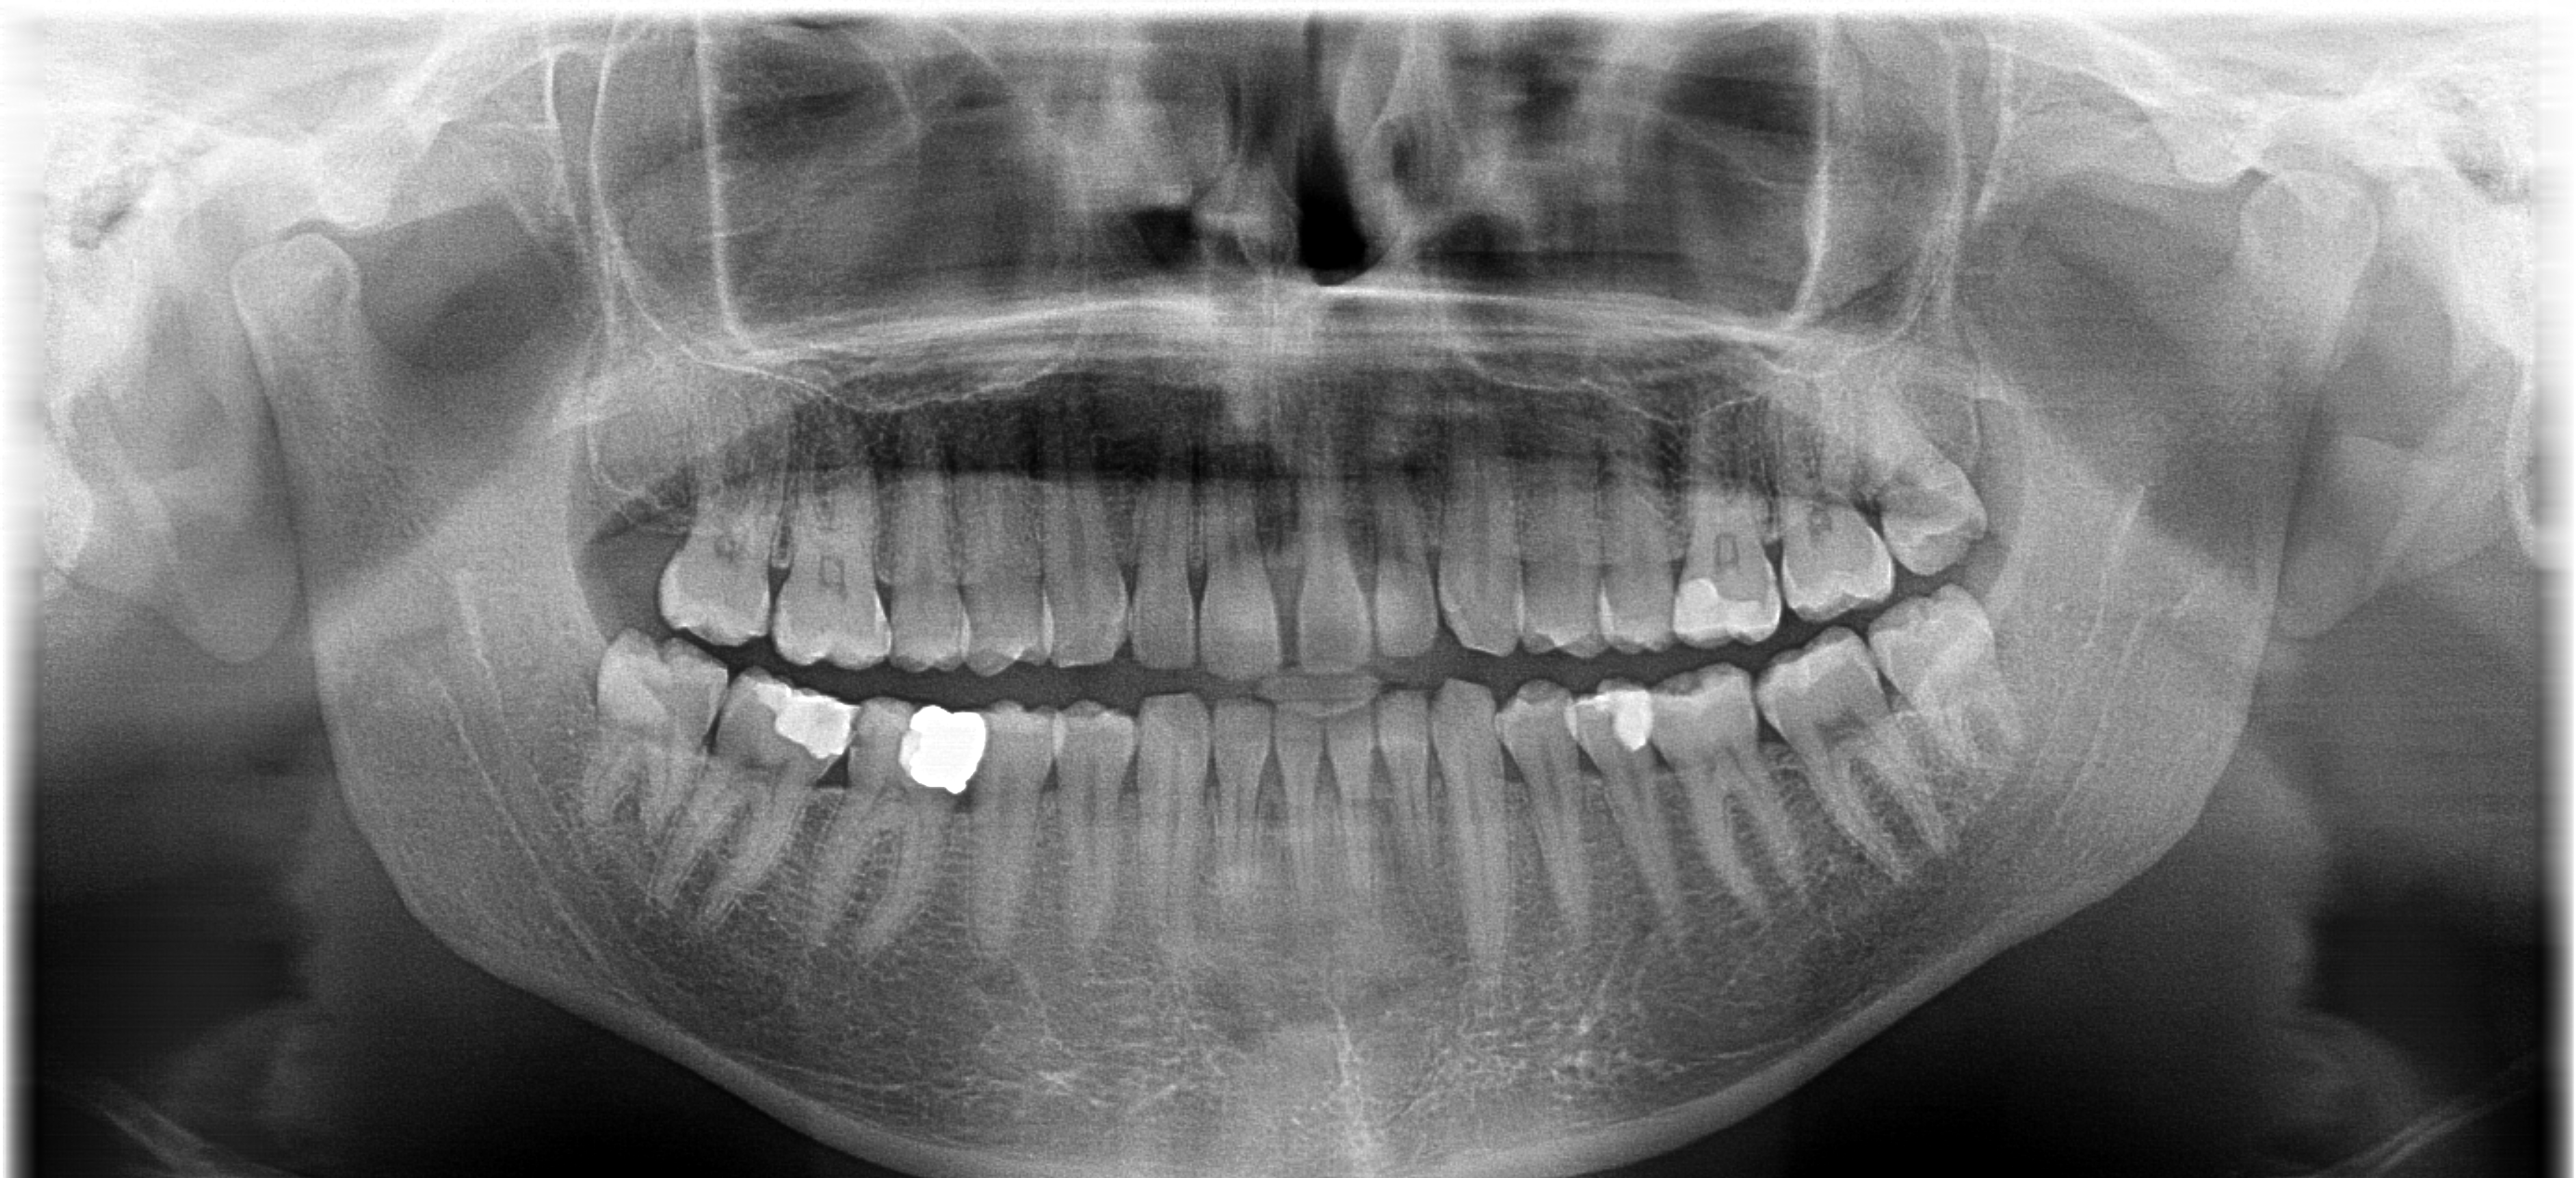cordal: (1830, 375, 2044, 611), (557, 611, 770, 846), (1858, 578, 2068, 785)
